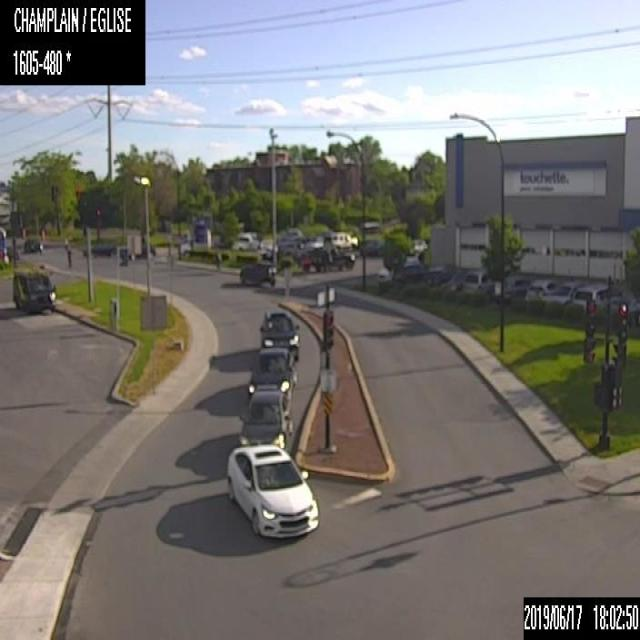vehicle: (225, 442, 319, 540), (238, 384, 293, 447), (247, 346, 298, 404), (258, 307, 300, 360), (301, 234, 354, 272), (13, 270, 56, 313), (392, 259, 443, 285), (378, 256, 422, 284), (573, 280, 610, 310), (461, 266, 494, 298), (604, 294, 639, 324), (239, 262, 275, 288), (547, 279, 582, 304), (525, 276, 557, 301), (502, 274, 530, 300), (119, 243, 156, 260), (442, 268, 466, 292), (82, 240, 116, 256), (233, 231, 260, 250), (330, 230, 358, 247), (278, 240, 302, 258), (279, 226, 304, 242), (257, 241, 279, 258), (23, 236, 43, 254), (304, 234, 324, 249), (412, 238, 427, 254)
